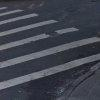Crosswalk: (5, 7, 83, 100)
